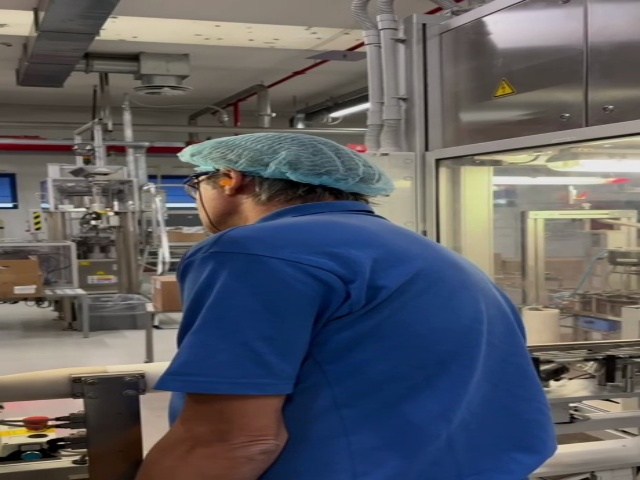Earplug: (216, 169, 240, 196)
Hairnet: (173, 131, 395, 195)
No_Helmet: (180, 132, 394, 189)
No_Vest: (176, 211, 551, 480)
Person: (173, 131, 551, 480)
Safety_Goggles: (175, 168, 218, 204)
